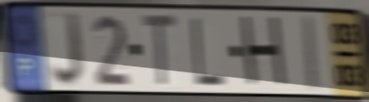2: (89, 12, 132, 89)
H: (238, 14, 290, 92)
I: (303, 13, 322, 94)
J: (49, 10, 86, 90)
L: (189, 15, 228, 89)
T: (140, 11, 180, 91)
